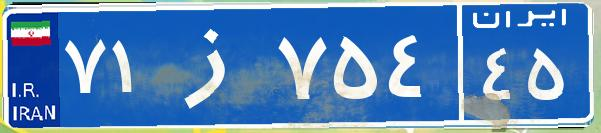1: (110, 28, 158, 105)
4: (385, 28, 445, 110), (475, 38, 525, 113)
5: (330, 28, 385, 110), (525, 38, 570, 115)
7: (273, 28, 330, 110), (57, 26, 110, 107)
ز: (158, 15, 273, 115)
